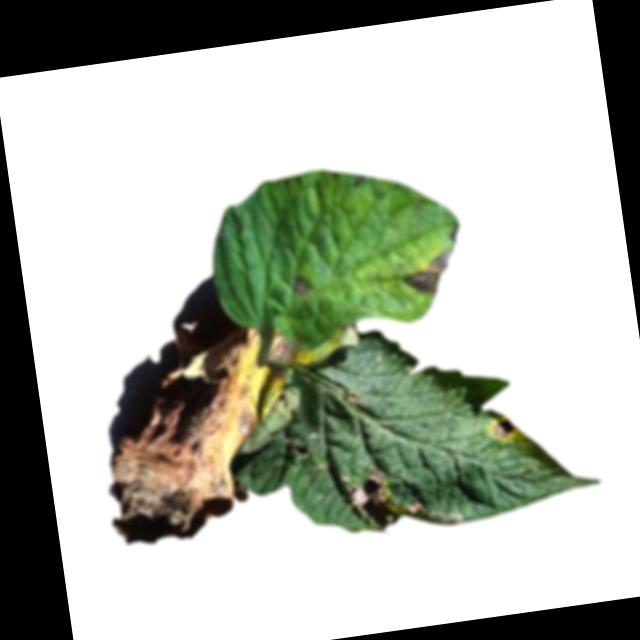Early_blight: (82, 323, 319, 550), (345, 465, 406, 533), (392, 246, 458, 301), (485, 413, 516, 443), (290, 271, 310, 296)
